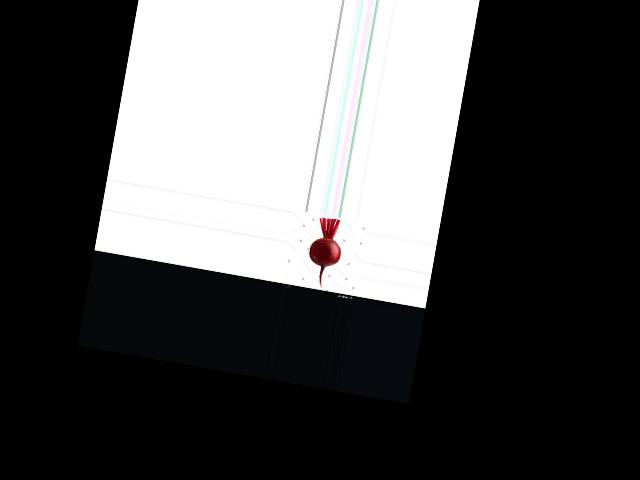beet: (303, 215, 346, 290)
